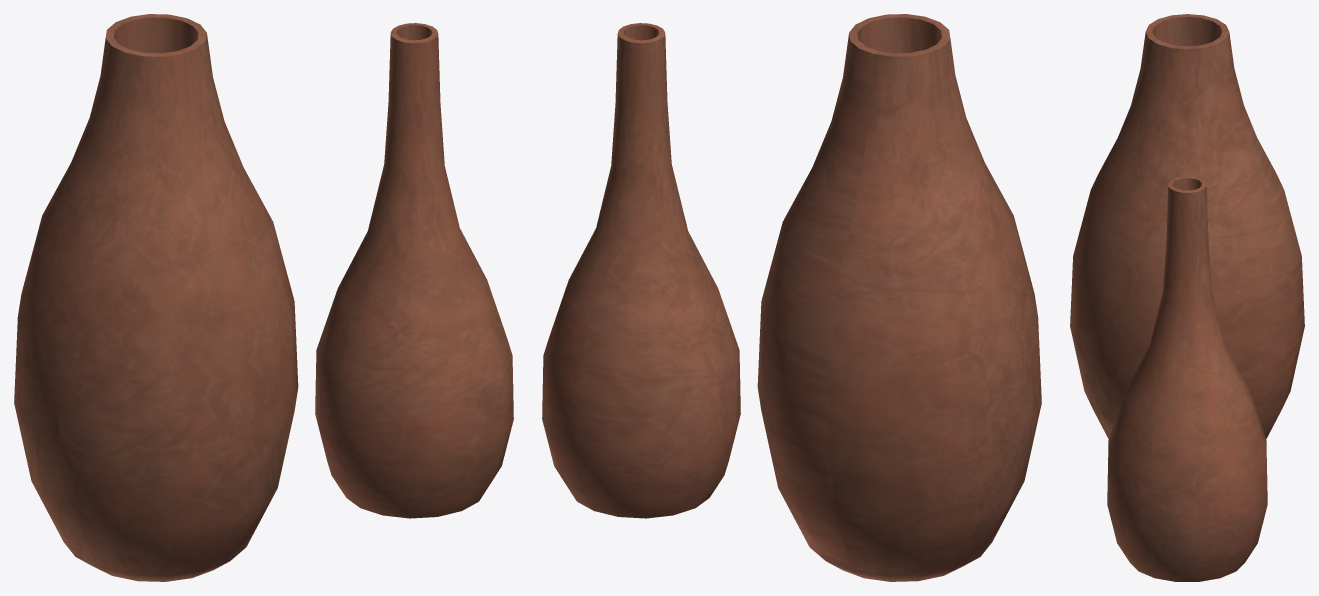
File: CR06_Vase 1.FBX
3 renders of one model, left to right at view 1: azimuth 30°, elevation 25°; view 2: azimuth 150°, elevation 25°; view 3: azimuth 270°, elevation 25°, orthographic. The views are drawn at different scales.
Visible parts, largest first — view 1: CR06_Vase_01, CR06_Vase_02; view 2: CR06_Vase_01, CR06_Vase_02; view 3: CR06_Vase_01, CR06_Vase_02.
Part boxes in pixels (left/top/right/bottom): CR06_Vase_01: left=14, top=14, right=298, bottom=581; CR06_Vase_02: left=315, top=23, right=513, bottom=518; CR06_Vase_01: left=757, top=14, right=1041, bottom=581; CR06_Vase_02: left=542, top=23, right=740, bottom=518; CR06_Vase_01: left=1070, top=14, right=1304, bottom=438; CR06_Vase_02: left=1107, top=176, right=1267, bottom=581.
Bounding box in the file's own units: 516 × 545 × 274.
